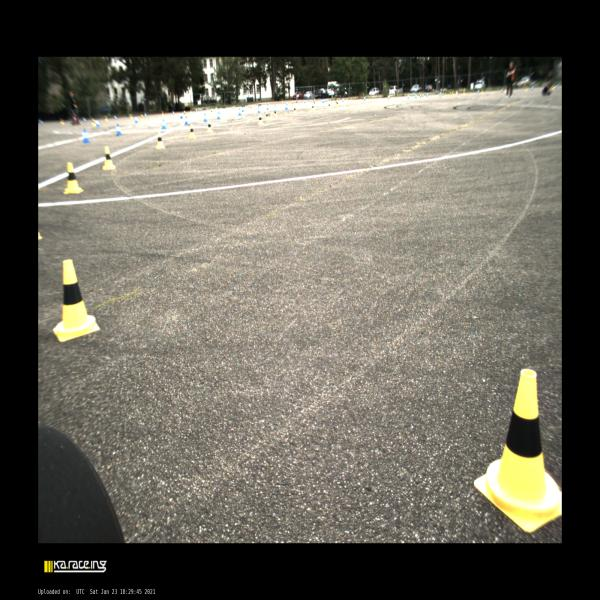blue_cone: (83, 129, 90, 143), (116, 123, 122, 136), (184, 115, 189, 125), (162, 119, 166, 128), (217, 111, 221, 119), (203, 114, 207, 121), (238, 108, 242, 115), (257, 106, 261, 113), (134, 117, 138, 123), (285, 102, 288, 109), (180, 112, 183, 118), (274, 104, 277, 110), (267, 103, 269, 110), (242, 106, 244, 112), (415, 94, 417, 98), (342, 98, 344, 102), (426, 93, 428, 97), (408, 94, 409, 99), (173, 111, 174, 115), (422, 94, 423, 98), (196, 109, 197, 112), (364, 97, 365, 100), (322, 99, 323, 102), (323, 99, 324, 102), (324, 99, 325, 102), (325, 99, 326, 102)
yellow_cone: (474, 369, 562, 532), (53, 260, 100, 342), (63, 163, 83, 194), (102, 146, 116, 169), (156, 132, 165, 148), (206, 120, 214, 133), (189, 124, 196, 138), (258, 113, 264, 125), (265, 111, 269, 120), (273, 110, 277, 116), (311, 105, 314, 110), (294, 107, 296, 113), (328, 103, 330, 109), (250, 105, 252, 111), (291, 101, 293, 105), (304, 100, 306, 104), (420, 94, 421, 100), (190, 110, 192, 113), (326, 99, 328, 102), (355, 96, 356, 102), (337, 102, 338, 107), (184, 111, 185, 116), (211, 108, 212, 113), (336, 100, 337, 105), (162, 111, 163, 115), (293, 101, 294, 105), (314, 100, 315, 104), (234, 105, 235, 108), (282, 102, 283, 104)
